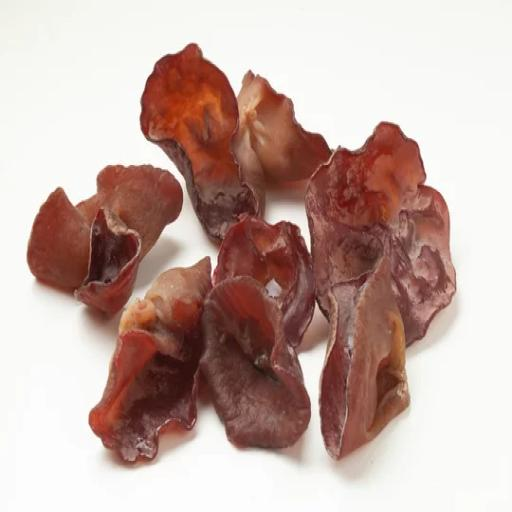Wood Ear Mushroom: (305, 121, 463, 362), (74, 251, 217, 462), (135, 45, 263, 249), (27, 151, 184, 309), (198, 274, 313, 461), (322, 258, 411, 458), (203, 211, 322, 356), (225, 54, 341, 196)
